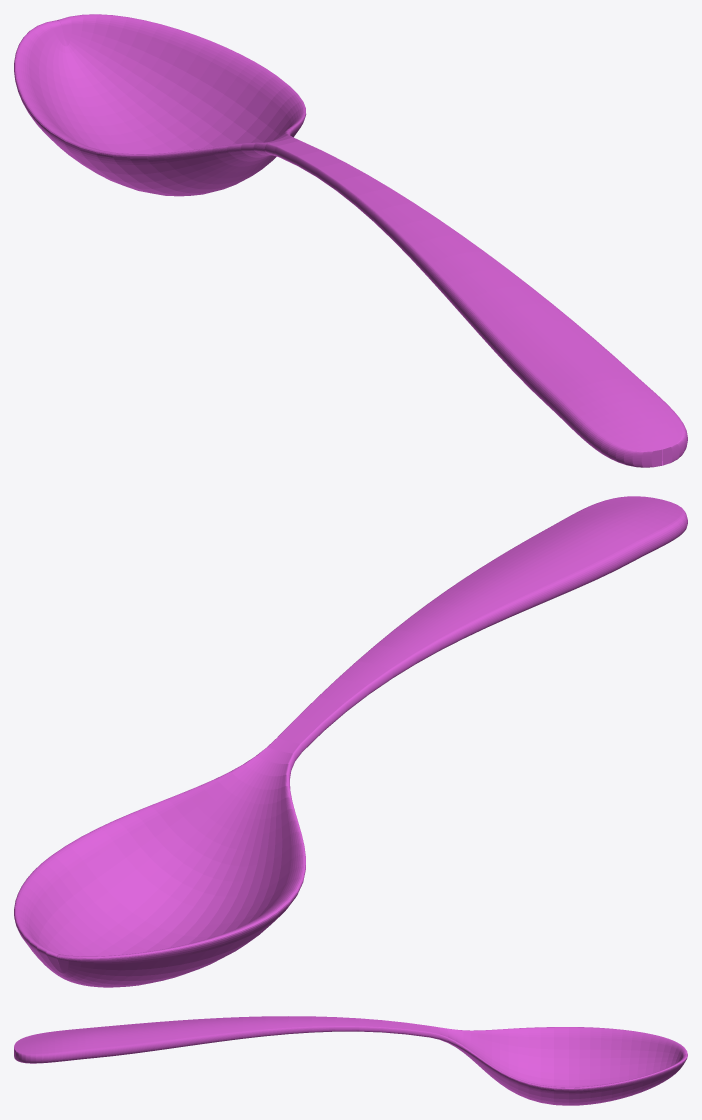
The model's file is spoon.glb.
3 views of the same model, one above another, from view 1: azimuth 30°, elevation 25°; view 2: azimuth 150°, elevation 25°; view 3: azimuth 270°, elevation 25° (orthographic). The views are drawn at different scales.
Parts seen in each view (by area): view 1: Spoon; view 2: Spoon; view 3: Spoon.
Part boxes in pixels (x1,y1,x2,y2): Spoon: (14, 14, 687, 467); Spoon: (14, 496, 687, 987); Spoon: (14, 1016, 687, 1105).
Bounding box in the file's own units: 0.264 × 0.155 × 1.21.
